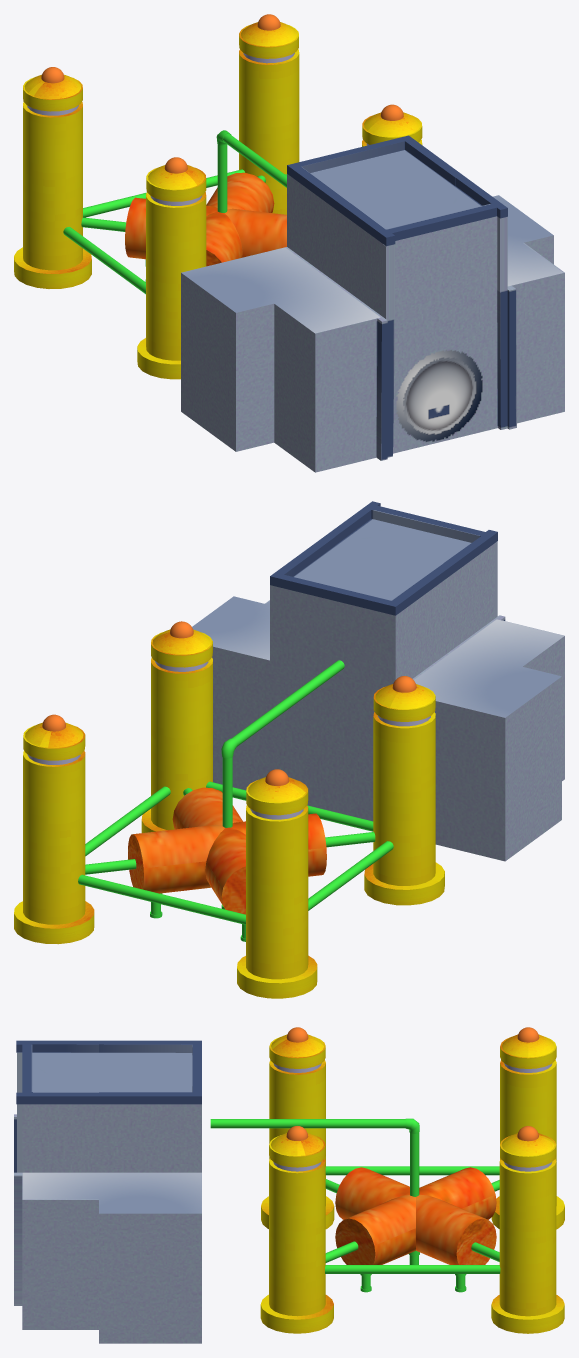
File: NuclearFactory.fbx
The picture shows the model from 3 angles, top to bottom: view 1: azimuth 30°, elevation 25°; view 2: azimuth 150°, elevation 25°; view 3: azimuth 270°, elevation 25°; orthographic projection. The views are drawn at different scales.
Parts seen in each view (by area): view 1: polySurface47; view 2: polySurface47; view 3: polySurface47.
Boxes of the visible parts, box(x1,y1,x2,y2) form: polySurface47: box(14, 14, 564, 472); polySurface47: box(14, 501, 564, 998); polySurface47: box(14, 1027, 564, 1343).
Bounding box in the file's own units: 55.17 × 36.61 × 88.55.
6 materials, 5 textured.
